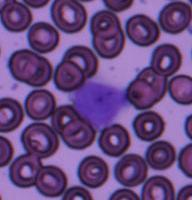M: (72, 77, 127, 130)
